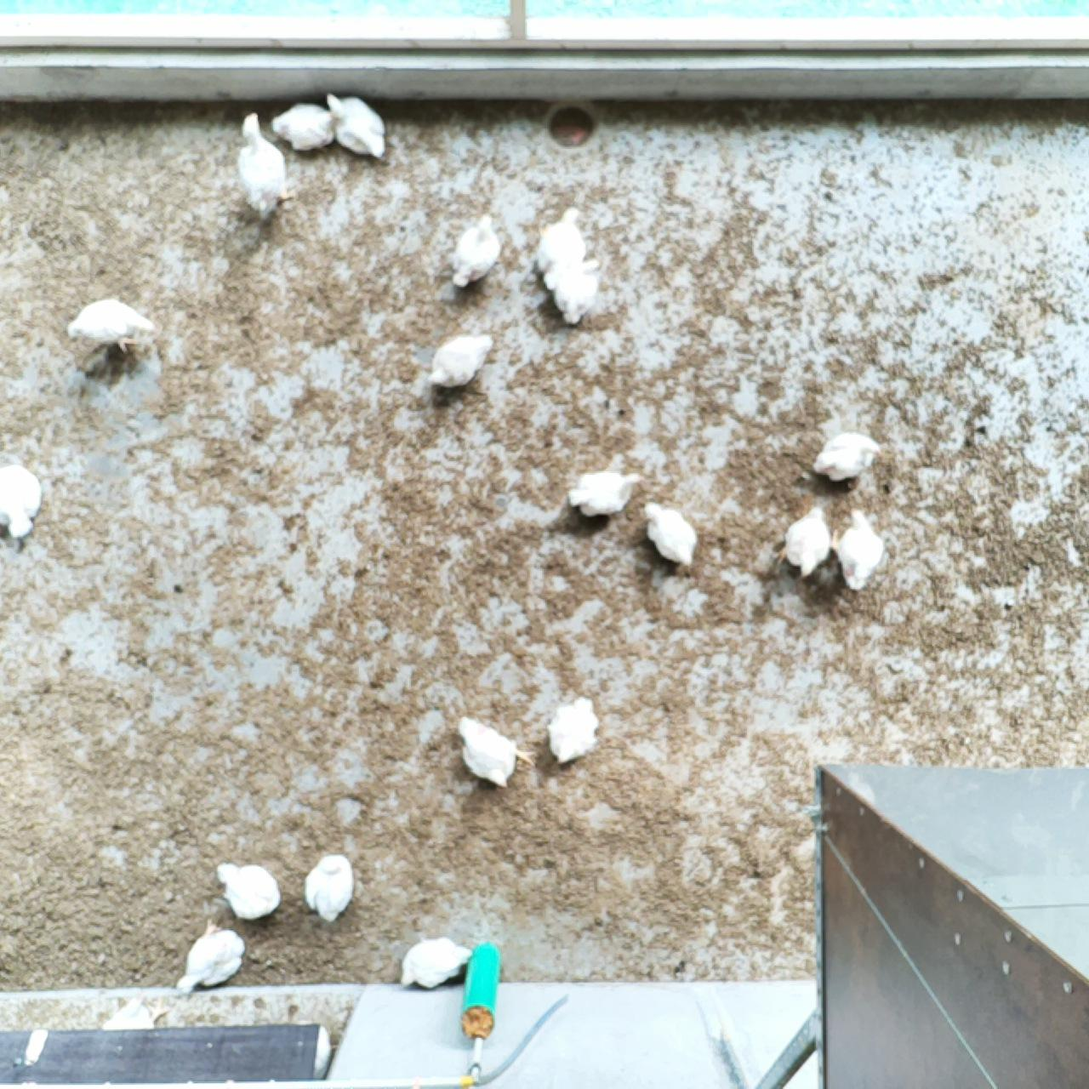chicken: (238, 114, 288, 225), (459, 720, 534, 786), (177, 922, 245, 994), (71, 298, 157, 354), (834, 510, 887, 590), (543, 255, 602, 325), (216, 861, 281, 921), (398, 936, 471, 989), (568, 470, 645, 516), (332, 95, 386, 160), (783, 505, 829, 579), (451, 214, 497, 286), (548, 698, 599, 762), (305, 856, 354, 922), (429, 335, 492, 386), (0, 465, 43, 539), (648, 505, 699, 567), (815, 432, 878, 482), (274, 102, 332, 151), (536, 208, 584, 267)
